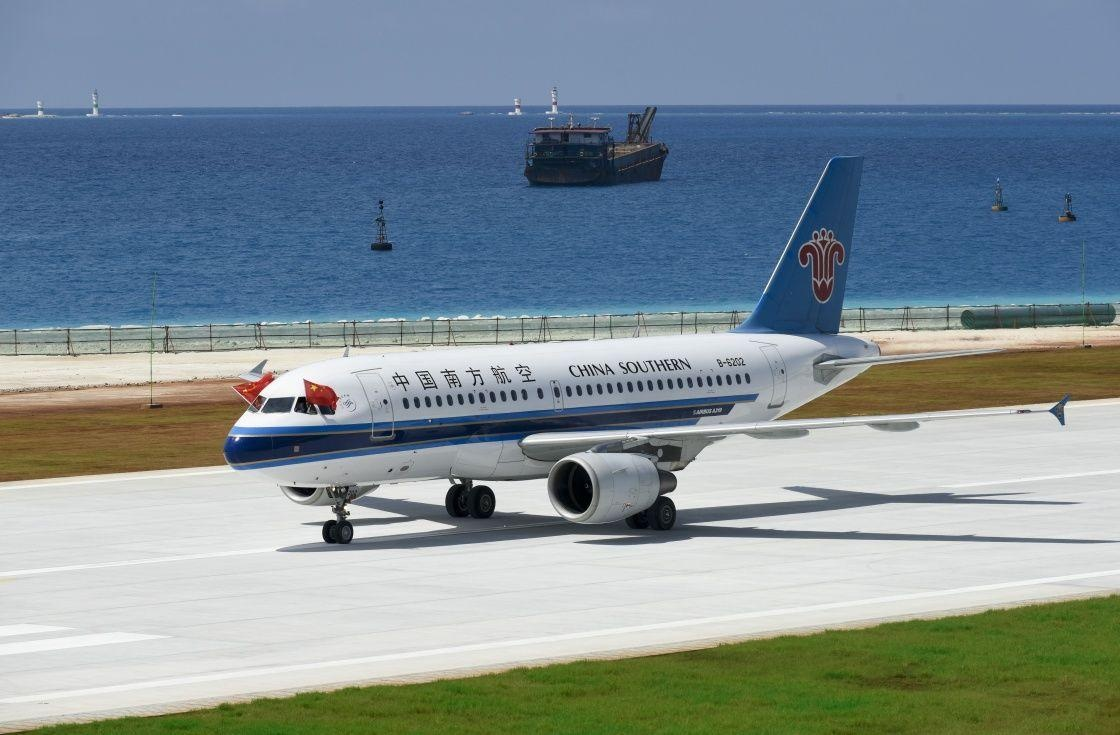airplane: (207, 146, 926, 552)
